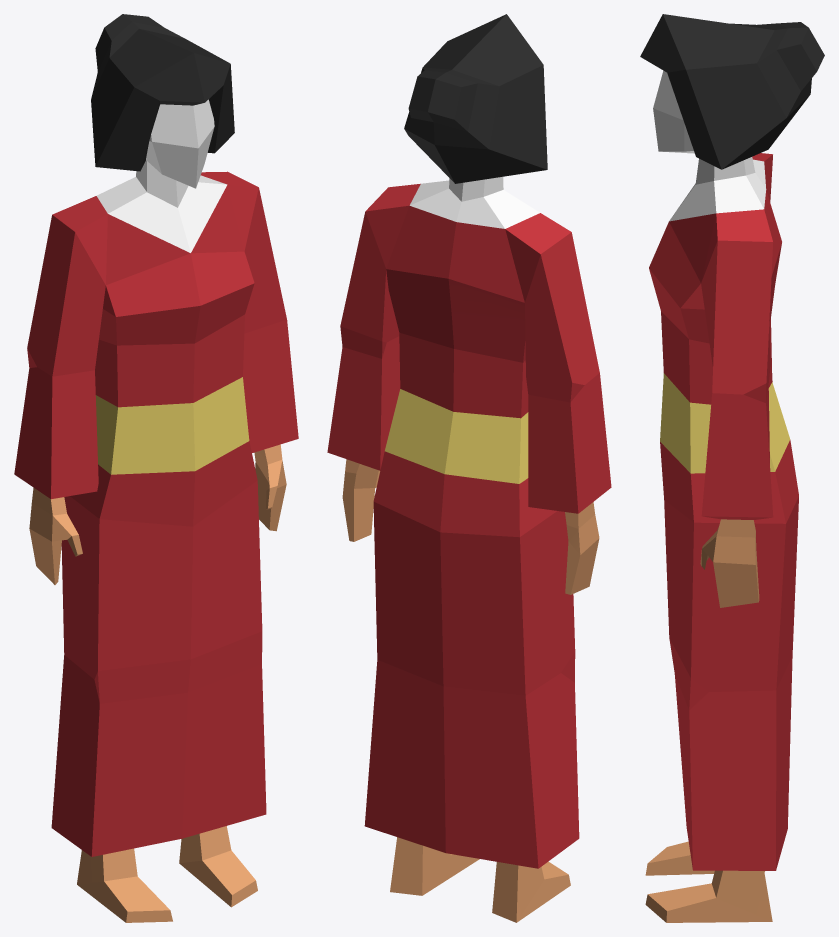
The model's file is people_woman-geisha.fbx.
3 views of the same model, side by side, from view 1: azimuth 30°, elevation 25°; view 2: azimuth 150°, elevation 25°; view 3: azimuth 270°, elevation 25° (orthographic). The views are drawn at different scales.
Parts seen in each view (by area): view 1: people_woman_geisha; view 2: people_woman_geisha; view 3: people_woman_geisha.
Part boxes in pixels (x1=…): people_woman_geisha: x1=14, y1=14, x2=298, y2=922; people_woman_geisha: x1=327, y1=14, x2=611, y2=922; people_woman_geisha: x1=640, y1=14, x2=824, y2=922.
Bounding box in the file's own units: 61.28 × 199 × 38.11.
